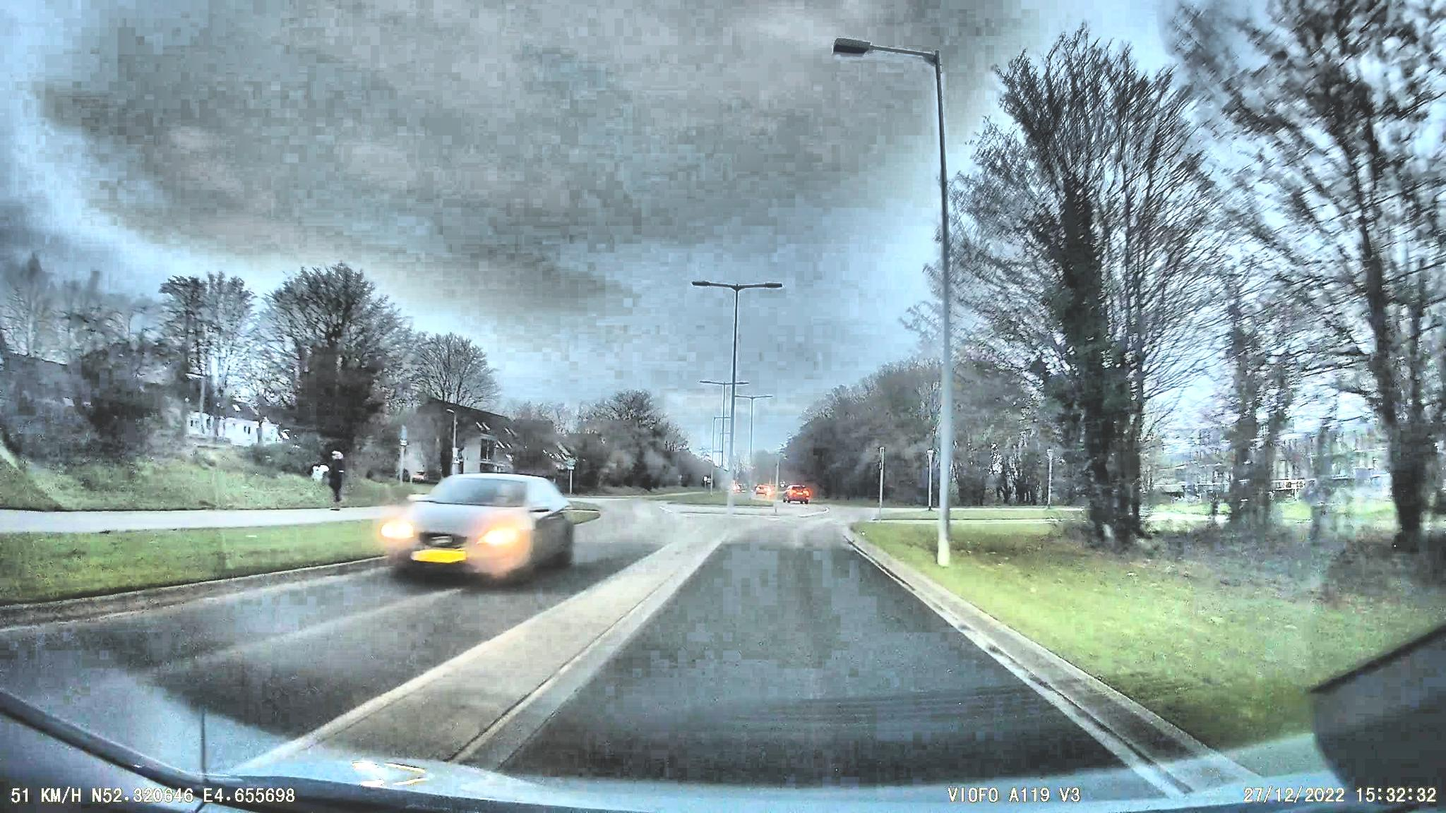Roads: (0, 502, 1165, 813)
